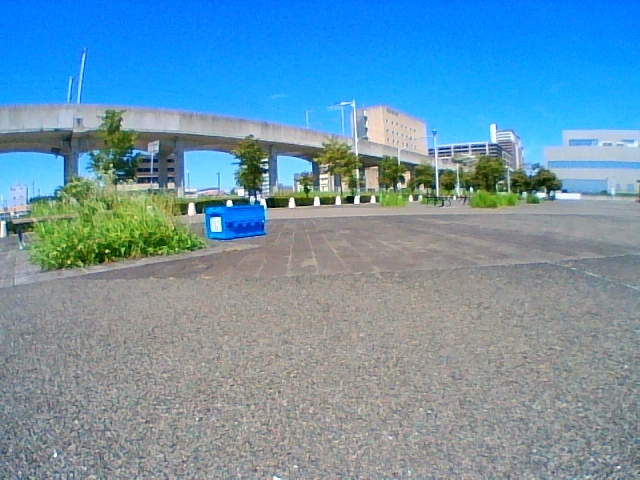blue_box: (205, 205, 265, 239)
tag: (211, 217, 220, 232)
